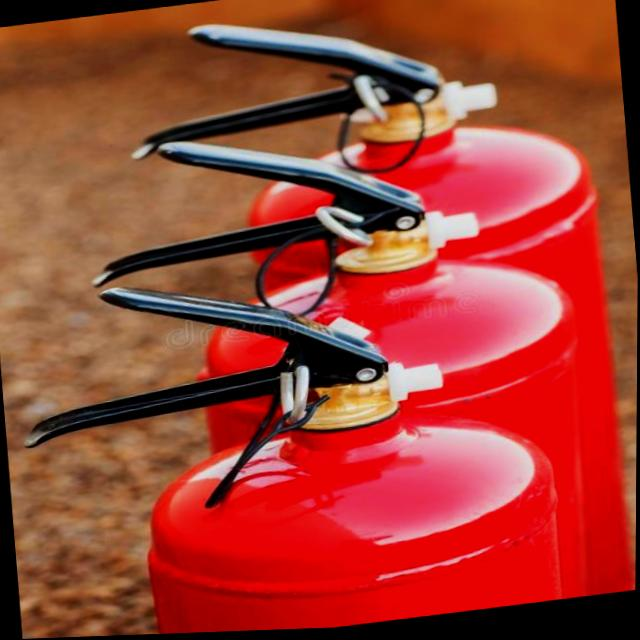FireExtinguisher: (118, 0, 640, 636), (70, 89, 611, 638), (3, 231, 576, 640)
